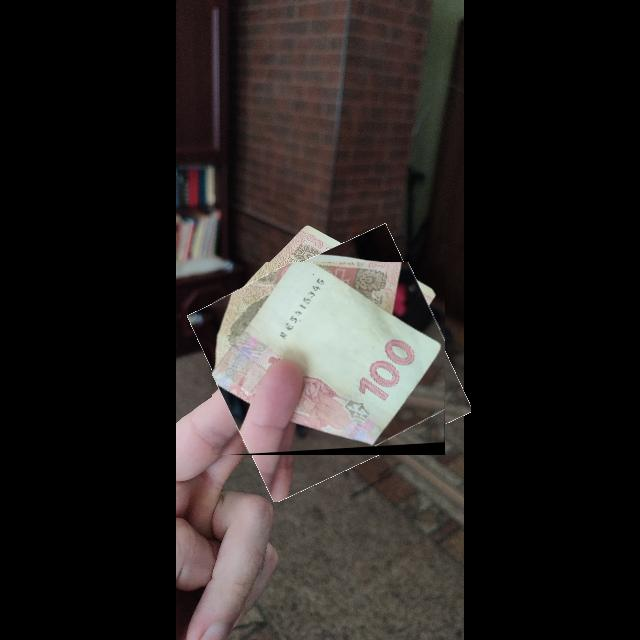100uah: (212, 262, 446, 449)
